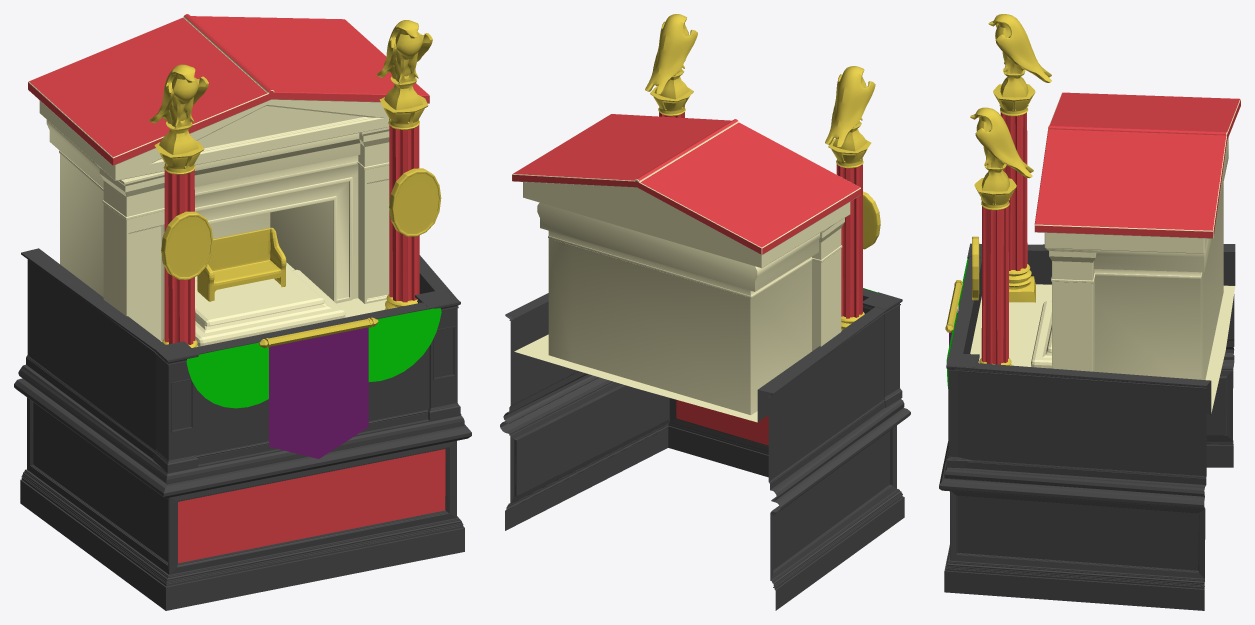
Rendered from test2_dansang.fbx.
The picture shows the model from 3 angles, left to right: view 1: azimuth 30°, elevation 25°; view 2: azimuth 150°, elevation 25°; view 3: azimuth 270°, elevation 25°; orthographic projection. The views are drawn at different scales.
Visible parts, largest first — view 1: dansang_1.002, dansang_roof.002, dansang_2.005, dansang_pillow.002, dansang_2.004, dansang_flag01.002, dansang_fillow3.002, dansang_flag02.002, dansang_chair.004, dansang_pillow2.002, dansang_chair.005; view 2: dansang_1.002, dansang_2.005, dansang_roof.002, dansang_pillow.002, dansang_2.004, dansang_fillow3.002, dansang_pillow2.002; view 3: dansang_1.002, dansang_roof.002, dansang_2.005, dansang_pillow.002, dansang_2.004, dansang_fillow3.002, dansang_chair.004, dansang_pillow2.002, dansang_flag01.002.
Part boxes in pixels (x1,y1,x2,y2): dansang_1.002: (14,248,471,610); dansang_roof.002: (28,14,429,180); dansang_2.005: (46,120,360,303); dansang_pillow.002: (149,20,432,347); dansang_2.004: (95,127,389,341); dansang_flag01.002: (259,317,378,458); dansang_fillow3.002: (153,289,460,472); dansang_flag02.002: (186,308,441,408); dansang_chair.004: (195,265,345,346); dansang_pillow2.002: (161,168,441,279); dansang_chair.005: (197,227,286,301); dansang_1.002: (500,289,910,610); dansang_2.005: (537,202,819,415); dansang_roof.002: (512,114,861,268); dansang_pillow.002: (645,14,875,330); dansang_2.004: (812,218,844,351); dansang_fillow3.002: (863,292,902,407); dansang_pillow2.002: (863,191,880,249); dansang_1.002: (939,244,1235,610); dansang_roof.002: (1034,92,1240,253); dansang_2.005: (1094,137,1228,379); dansang_pillow.002: (970,14,1051,365); dansang_2.004: (1046,248,1097,371); dansang_fillow3.002: (946,243,981,468); dansang_chair.004: (1031,301,1051,368); dansang_pillow2.002: (972,236,979,300); dansang_flag01.002: (945,280,962,346).
Bounding box in the file's own units: 910 × 1340 × 782.
